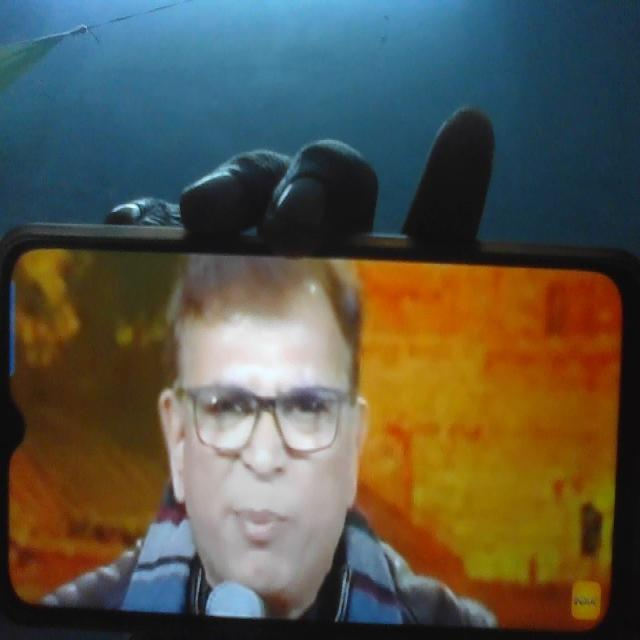fake: (153, 197, 377, 620)
